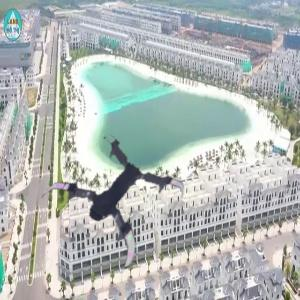drone: (45, 139, 175, 269)
